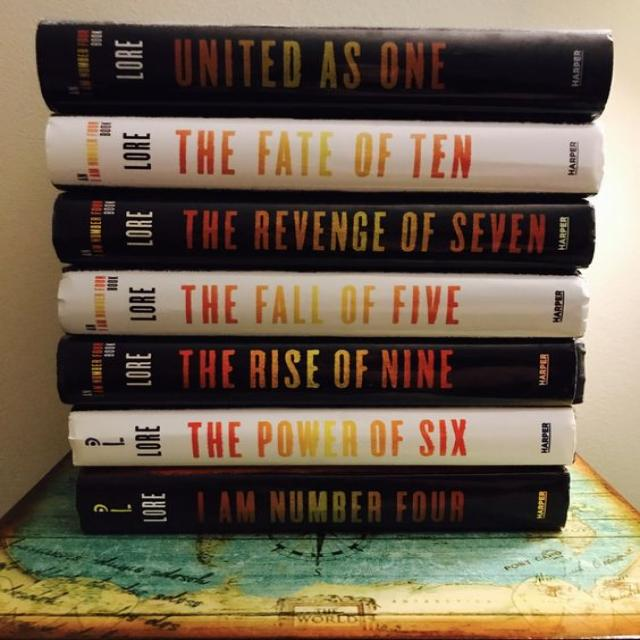book: (38, 23, 610, 120), (48, 117, 601, 196), (54, 198, 593, 266), (56, 339, 584, 405), (55, 271, 586, 336), (76, 473, 568, 534), (67, 409, 573, 467)
